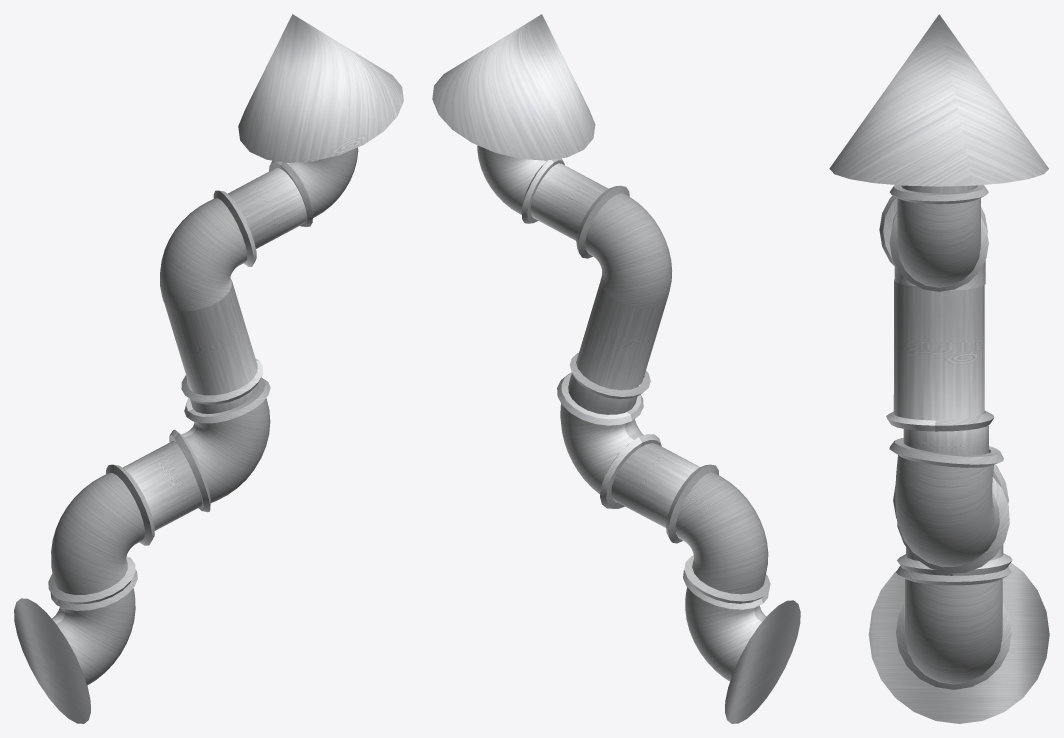
Rendered from TuboFachada.obj.
The picture shows the model from 3 angles, left to right: view 1: azimuth 30°, elevation 25°; view 2: azimuth 150°, elevation 25°; view 3: azimuth 270°, elevation 25°; orthographic projection. The views are drawn at different scales.
Parts seen in each view (by area): view 1: TuboTecho:pCylinder6; view 2: TuboTecho:pCylinder6; view 3: TuboTecho:pCylinder6.
Boxes of the visible parts, left/top/right/bottom form: TuboTecho:pCylinder6: left=14, top=14, right=403, bottom=723; TuboTecho:pCylinder6: left=432, top=14, right=800, bottom=723; TuboTecho:pCylinder6: left=829, top=14, right=1049, bottom=723.
Size of the model in its own units: 10.86 by 19.62 by 4.64.
1 material, 1 textured.
